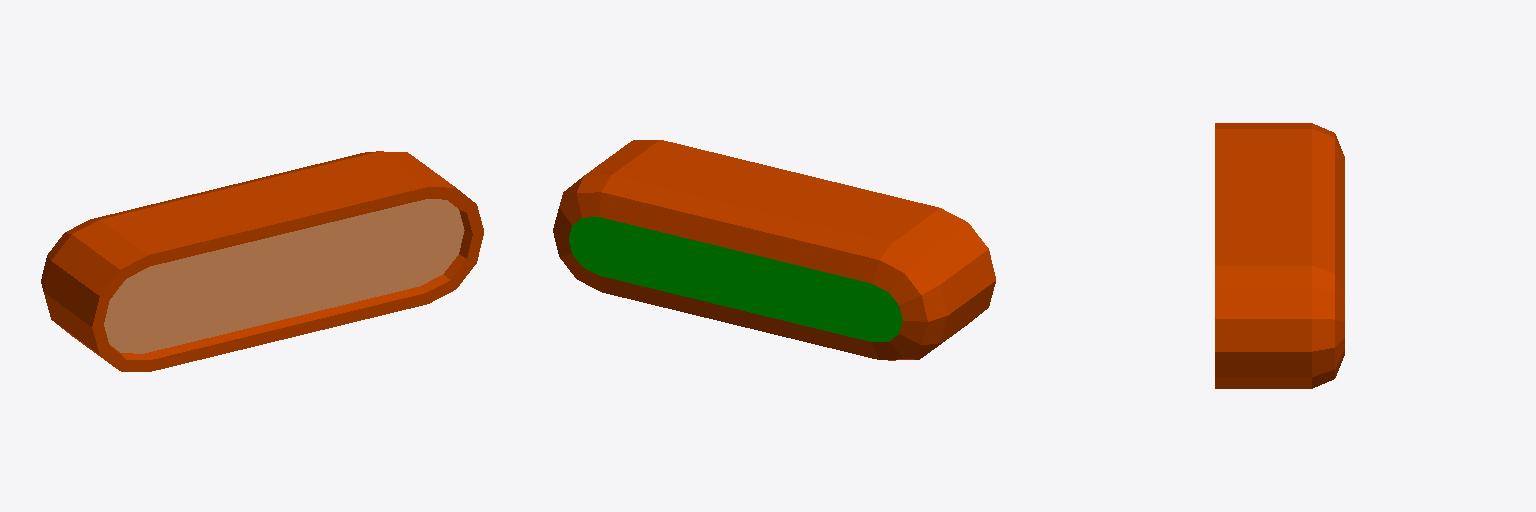
File: clock.obj
The picture shows the model from 3 angles: view 1: azimuth 30°, elevation 25°; view 2: azimuth 150°, elevation 25°; view 3: azimuth 270°, elevation 25°; orthographic projection.
Parts seen in each view (by area): view 1: Cube; view 2: Cube; view 3: Cube.
Boxes of the visible parts, box(x1,y1,x2,y2) form: Cube: box(41, 151, 483, 371); Cube: box(553, 140, 995, 360); Cube: box(1215, 123, 1344, 388).
Bounding box in the file's own units: 0.7 × 0.2 × 0.2.